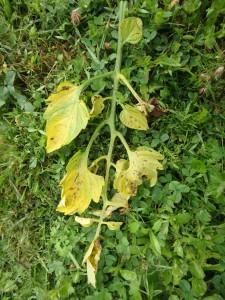Potato leaf late blight: (55, 152, 110, 220), (42, 81, 92, 149), (113, 145, 165, 195), (82, 238, 107, 292), (133, 92, 171, 121)
